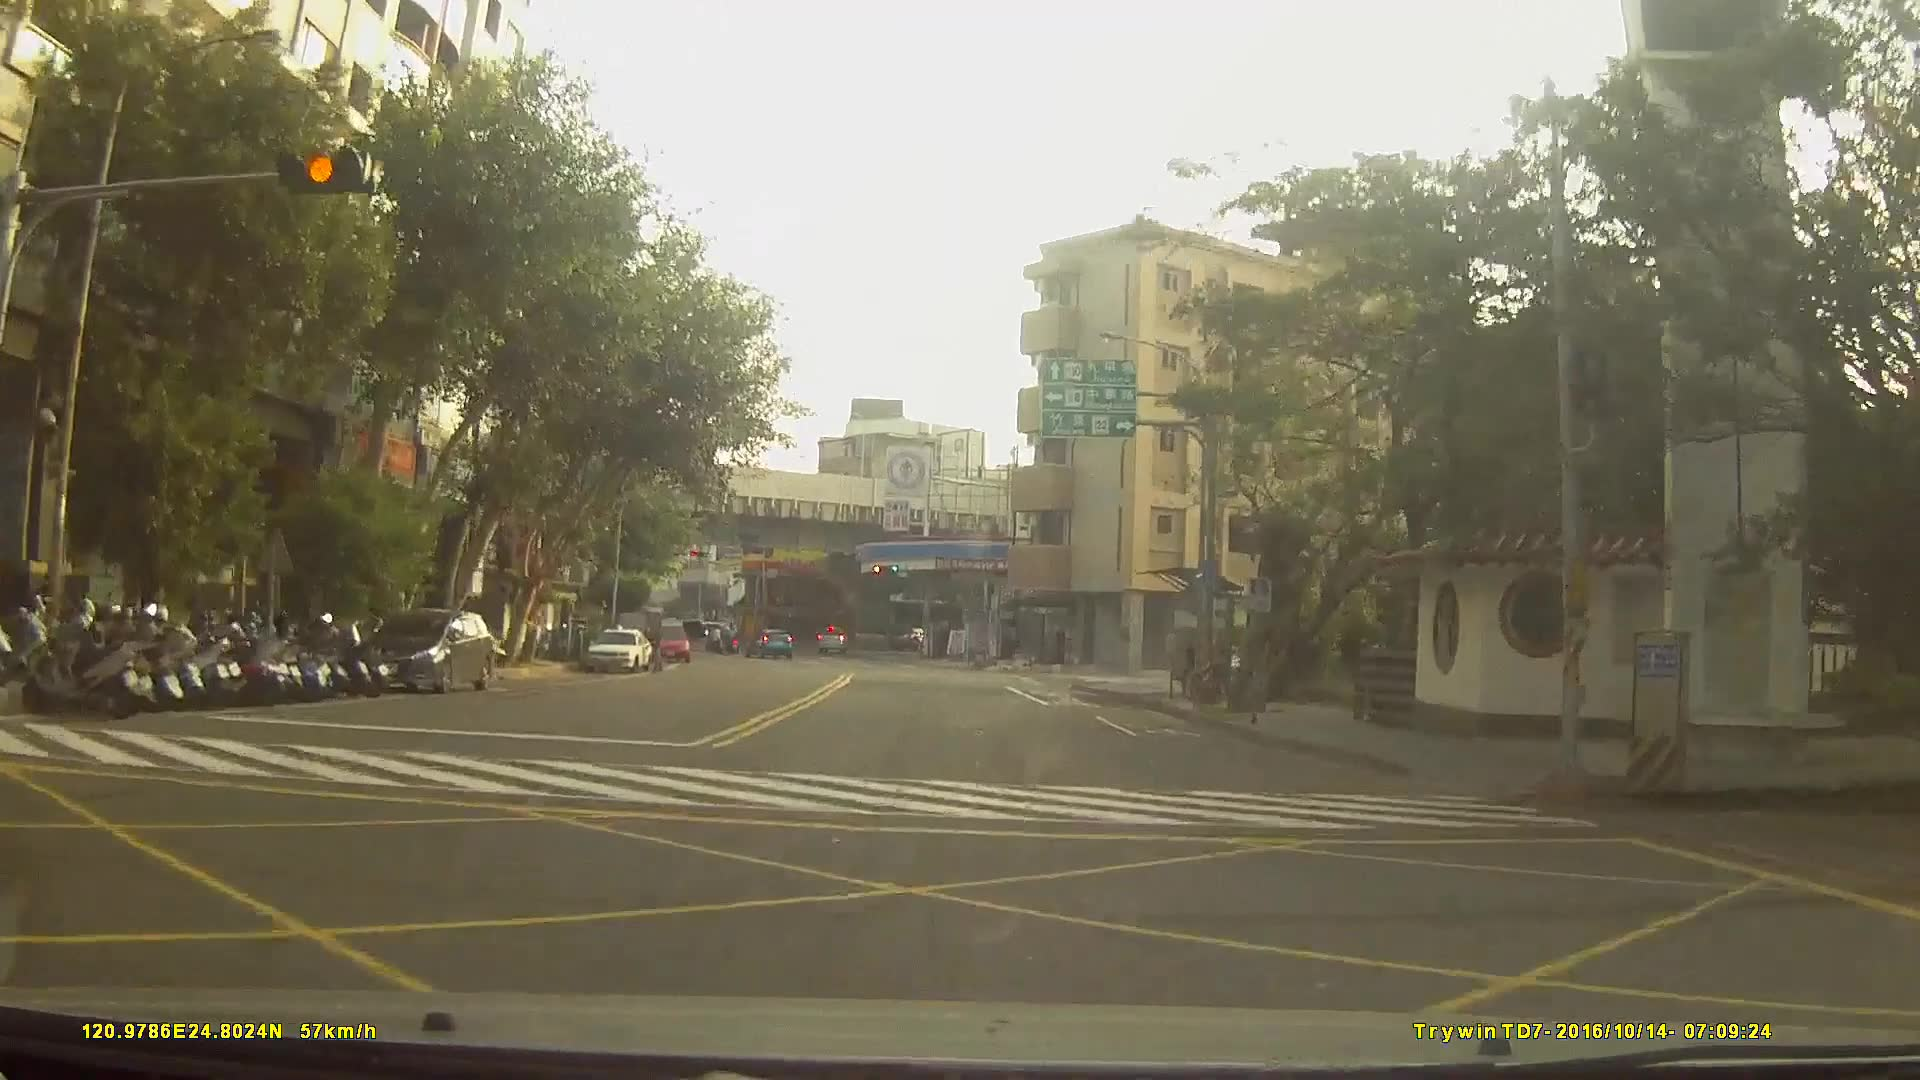vehicle: (356, 604, 498, 694), (582, 622, 653, 671), (647, 624, 691, 665), (744, 622, 793, 655), (815, 624, 852, 651)
